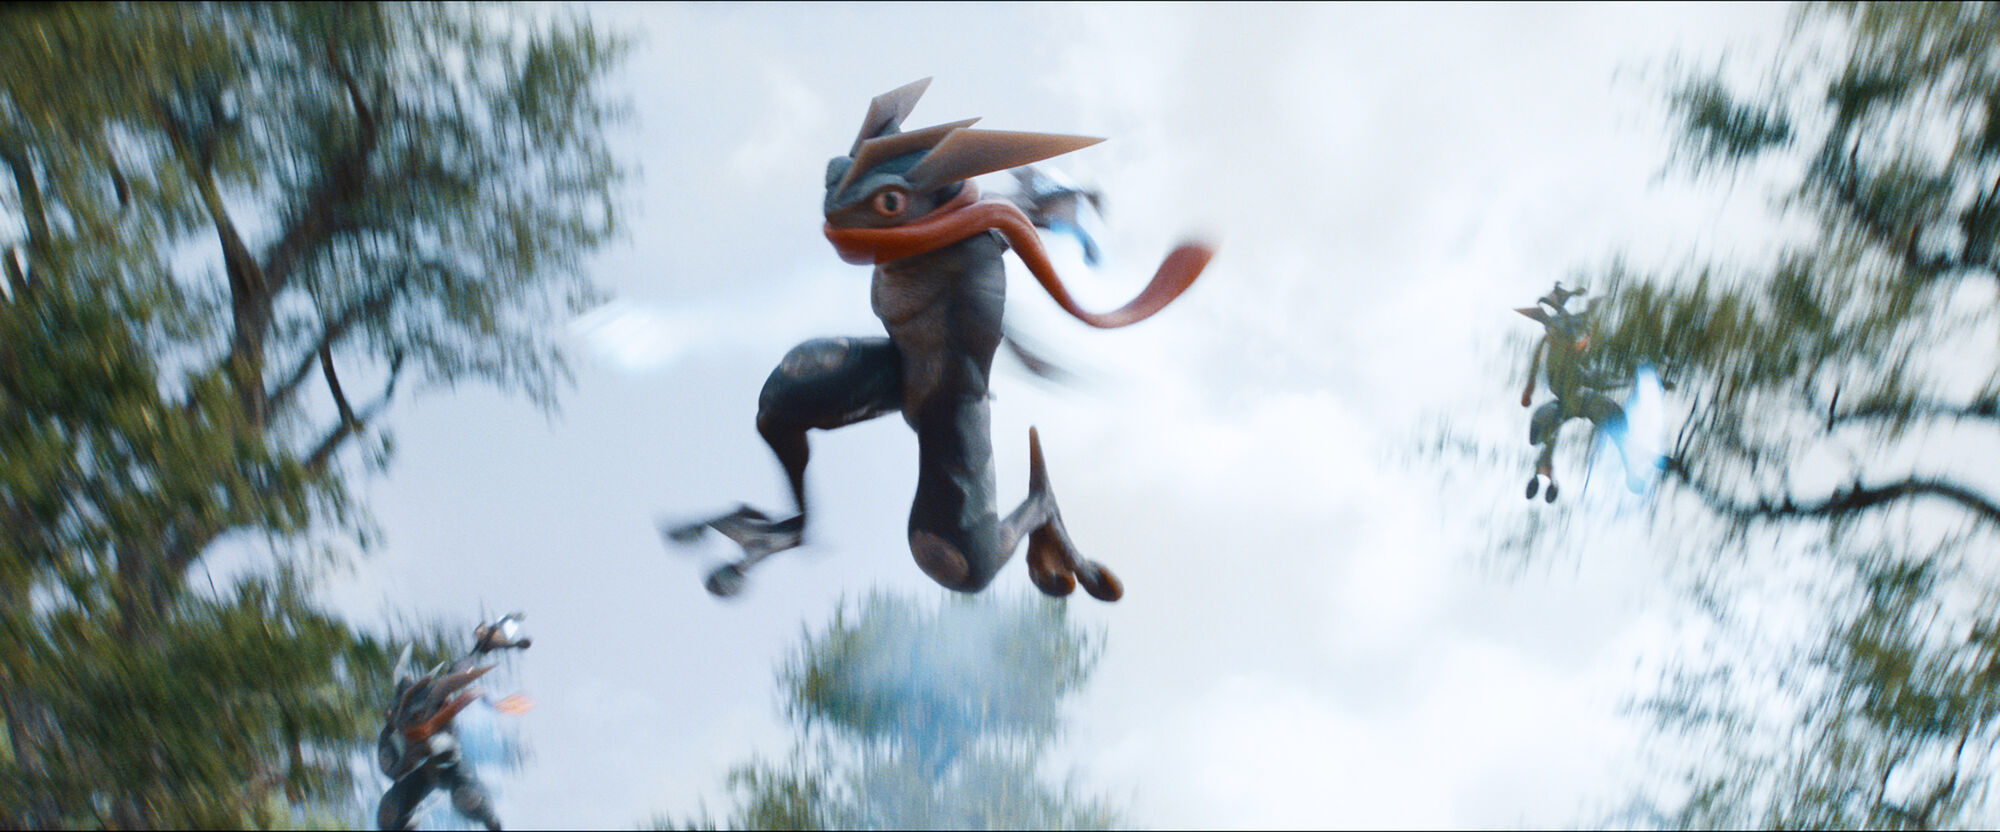greninja: (665, 71, 1232, 602), (1464, 236, 1682, 527), (352, 610, 541, 832)
